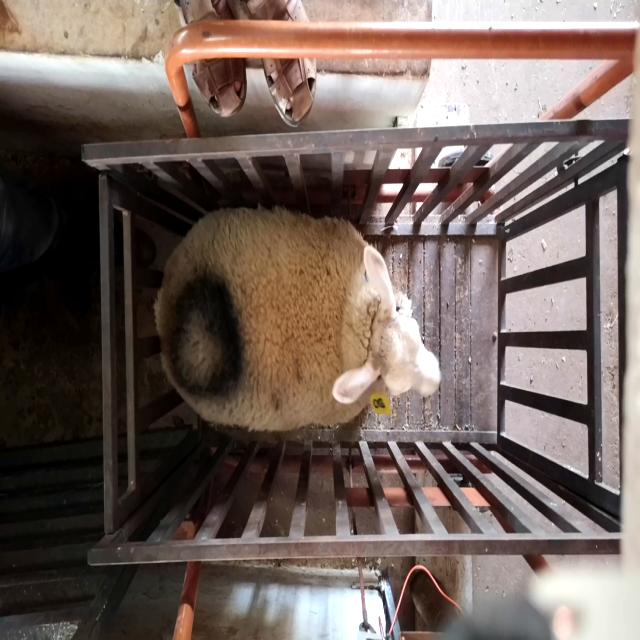sheep: (153, 206, 440, 433)
